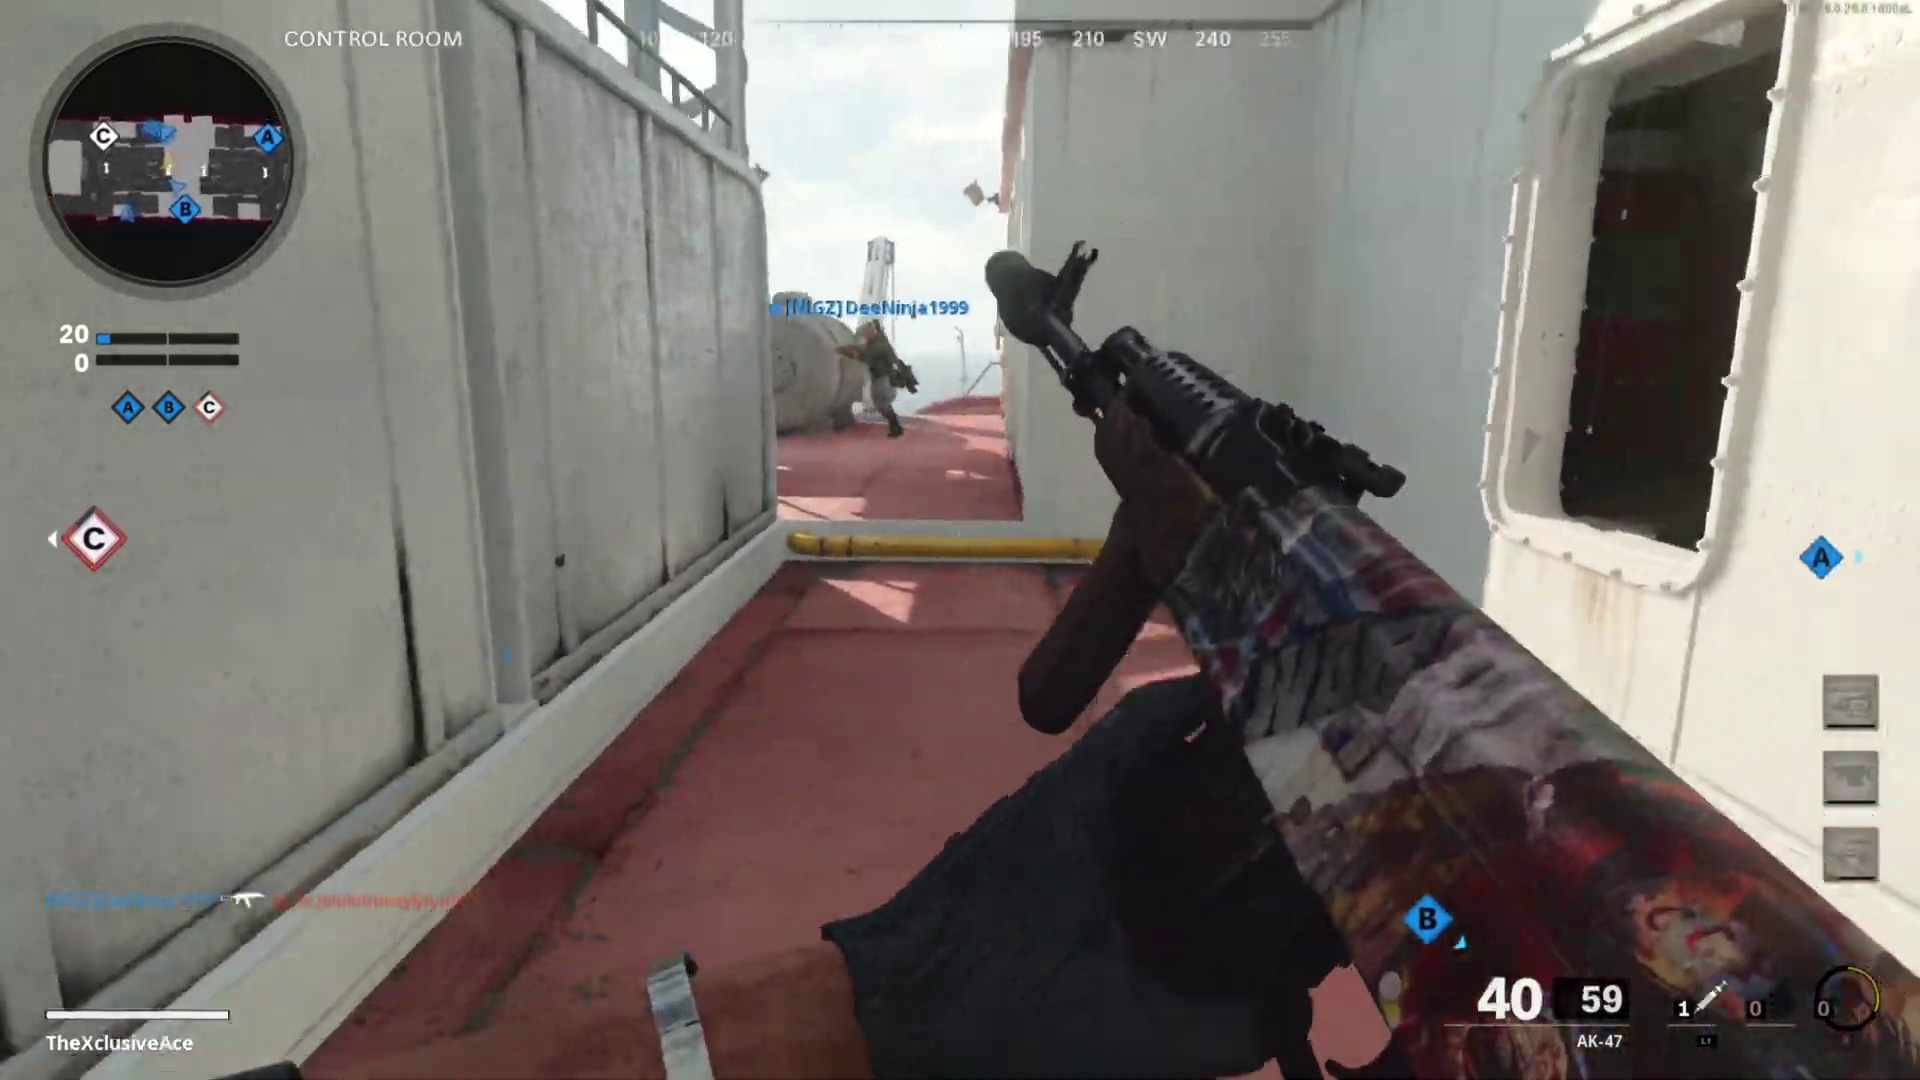head: (852, 319, 877, 348)
person: (849, 319, 912, 434)
